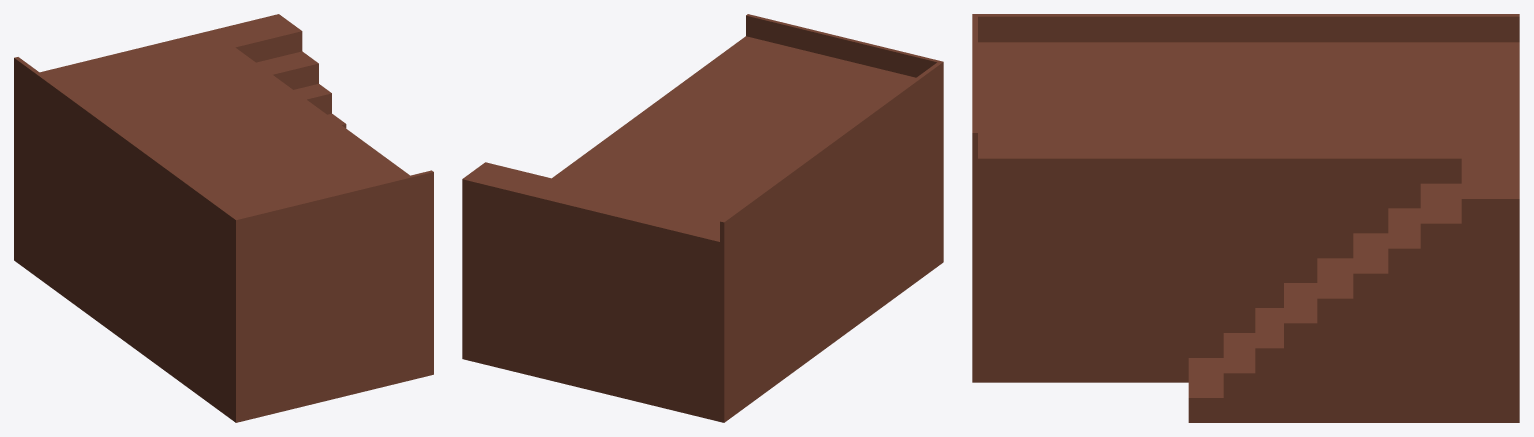
The model's file is modelo2.fbx.
3 views of the same model, side by side, from view 1: azimuth 30°, elevation 25°; view 2: azimuth 150°, elevation 25°; view 3: azimuth 270°, elevation 25° (orthographic). The views are drawn at different scales.
Parts seen in each view (by area): view 1: Cube; view 2: Cube; view 3: Cube.
Boxes of the visible parts, x1,y1,x2,y2 form: Cube: (14,14,433,422); Cube: (462,14,943,422); Cube: (972,14,1519,422).
Bounding box in the file's own units: 268 × 196 × 389.
Materials: 1 (1 with a texture image).
